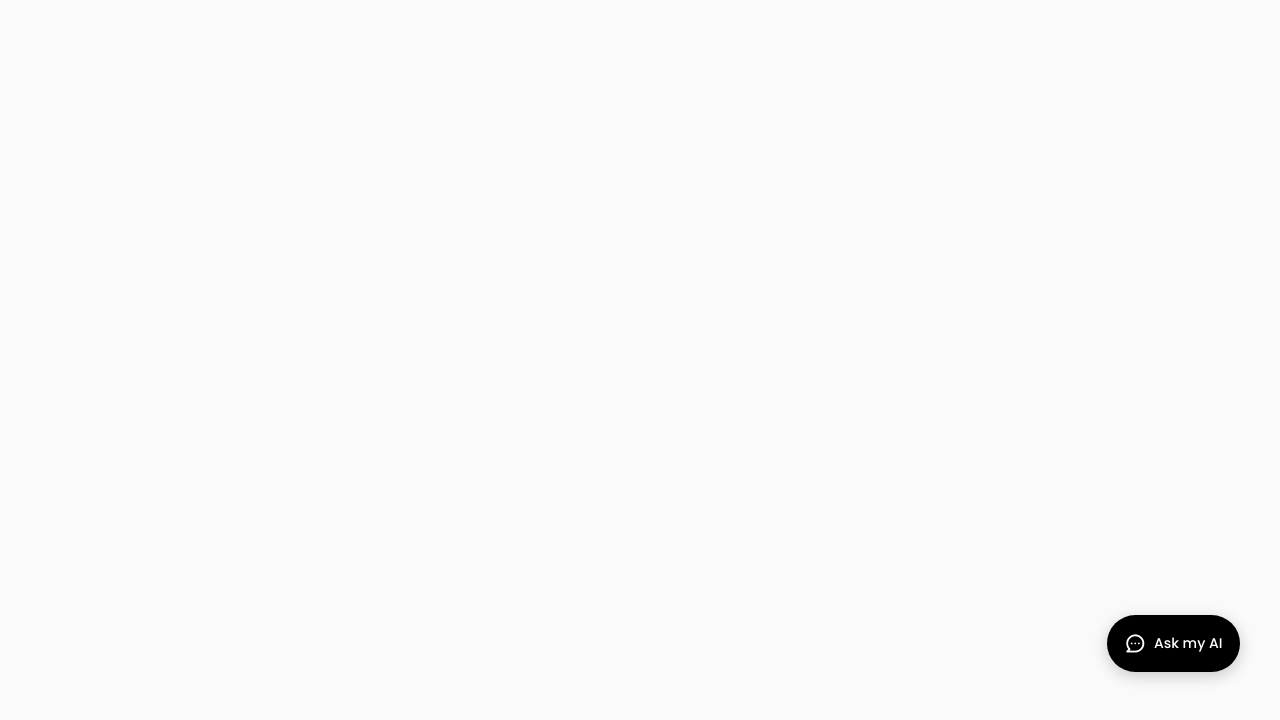
Test case: ChatWidget with Turnstile › first question sends a token; follow-ups send the session from the API instead
Later steps or results of the test are not shown.
Click the button with aria-label "open chat" at (1173, 644), box x1=1107 y1=615 x2=1240 y2=672
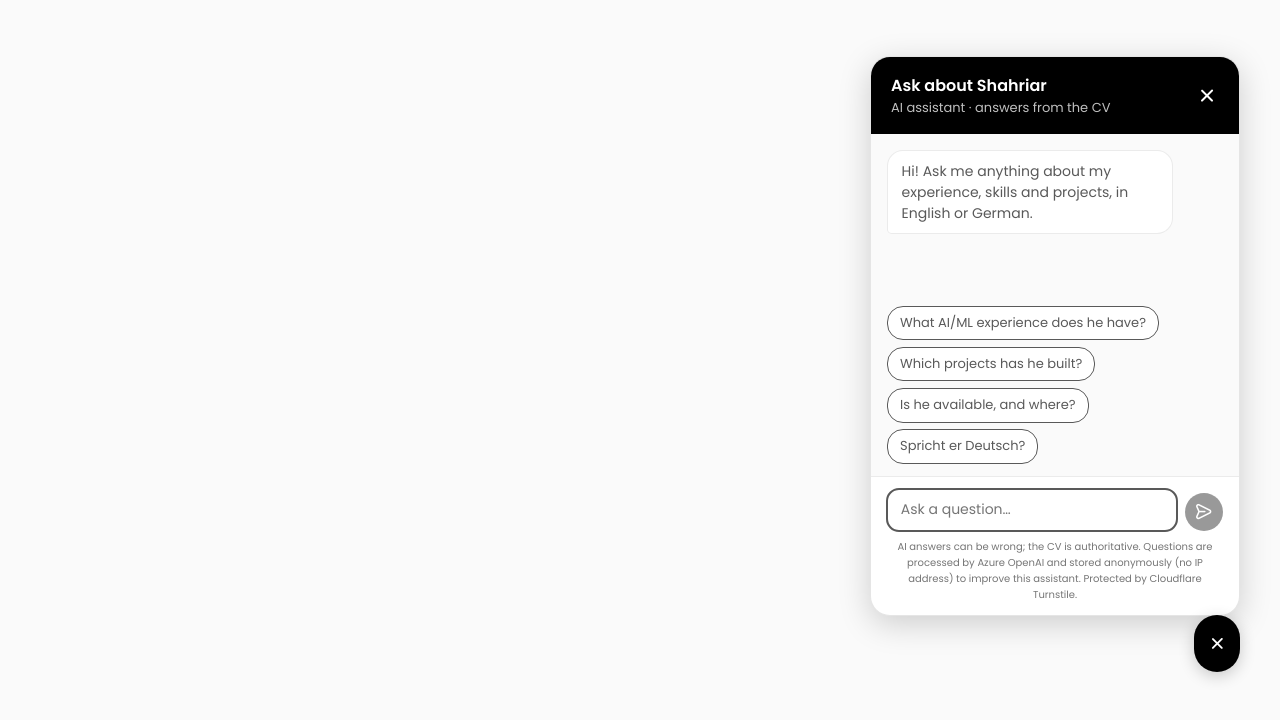
Type "q1" into the text box named "Your question" at (1032, 510), box x1=887 y1=489 x2=1177 y2=531
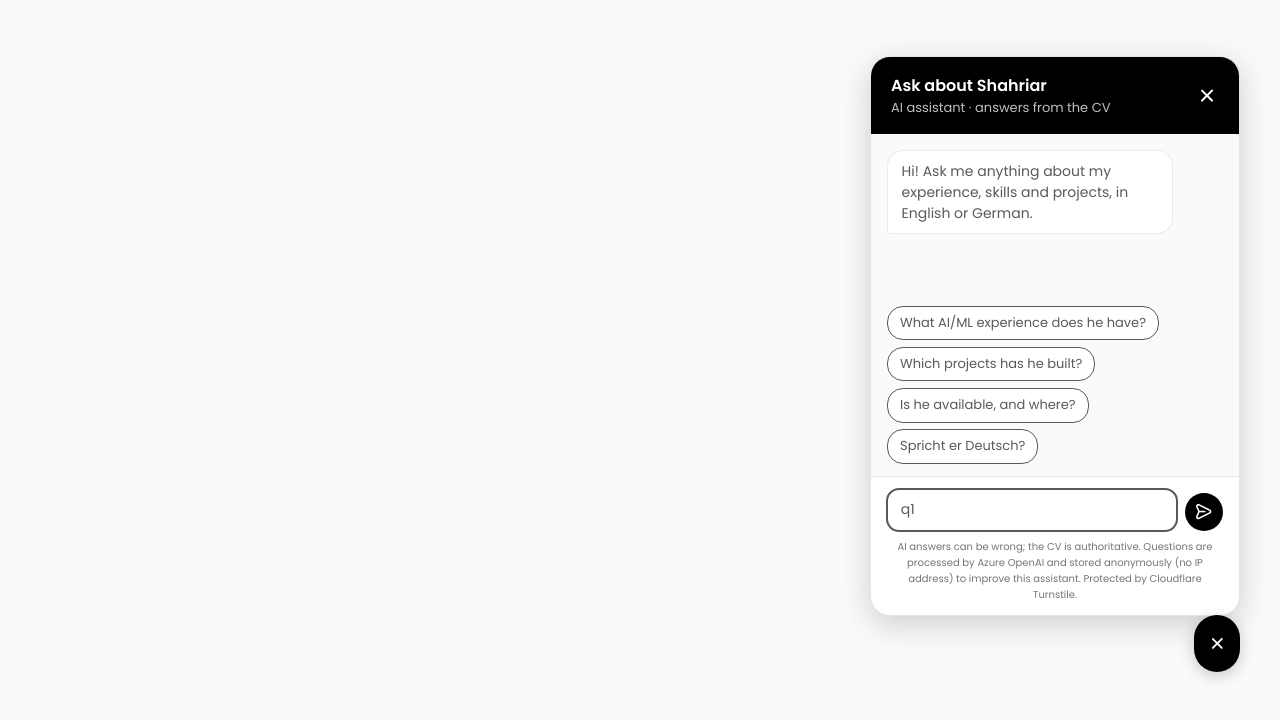
Press Enter in the text box named "Your question", box x1=887 y1=489 x2=1177 y2=531
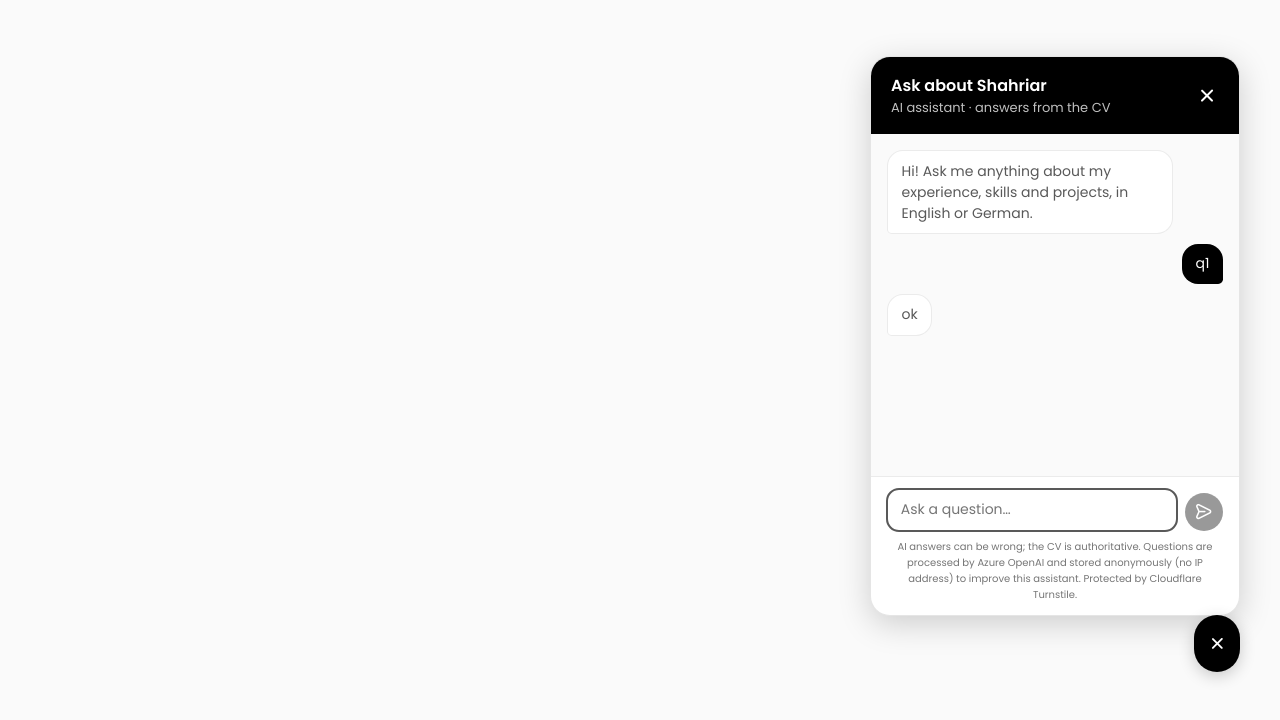
Check: the text "ok" is shown, box x1=887 y1=294 x2=932 y2=336
